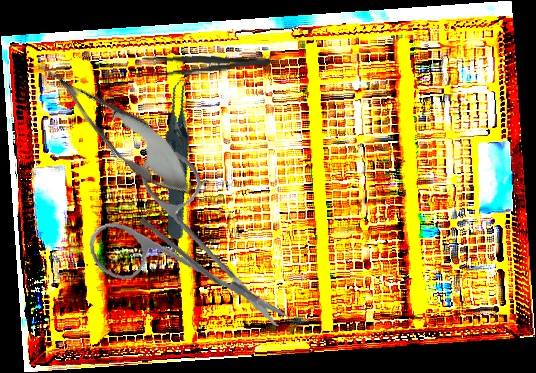Dressing Forceps: (131, 50, 272, 80)
Iris Scissors: (78, 141, 291, 348)
Micro Scissor: (21, 42, 210, 213)
Pusher: (138, 216, 237, 301)
Tissue Forceps: (133, 72, 228, 241)
